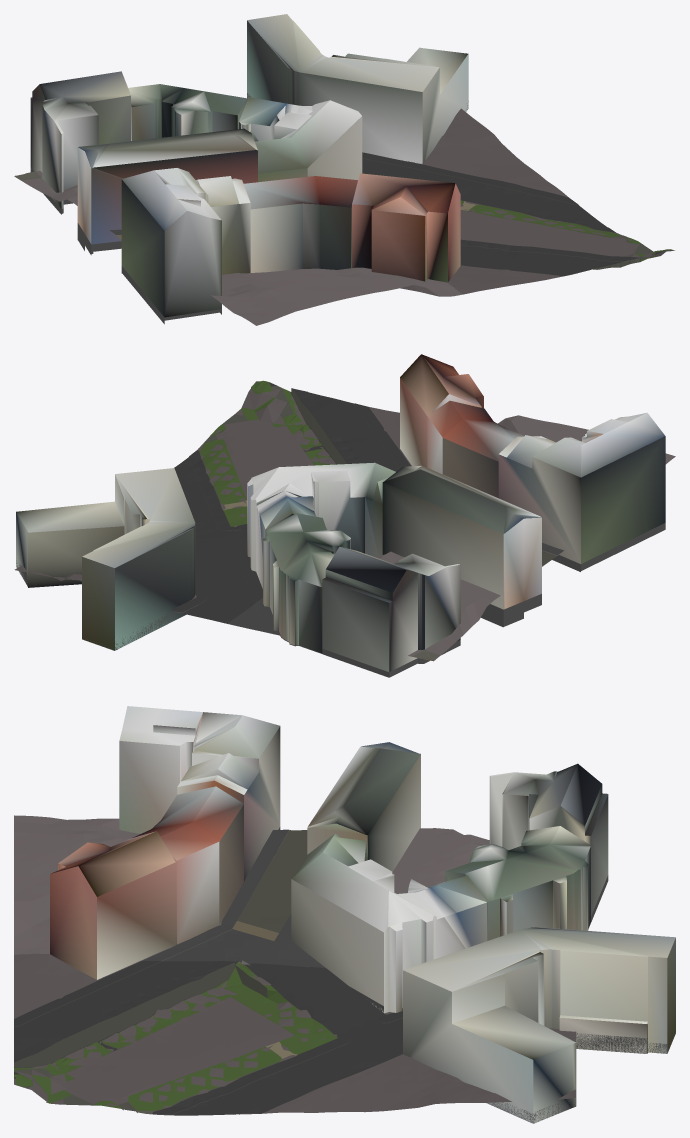
3 views of the same model, one above another, from view 1: azimuth 30°, elevation 25°; view 2: azimuth 150°, elevation 25°; view 3: azimuth 270°, elevation 25° (orthographic). The views are drawn at different scales.
Visible parts, largest first — view 1: c_m11_m04, append:c_m11_m04; view 2: c_m11_m04, append:c_m11_m04; view 3: c_m11_m04, append:c_m11_m04.
Part boxes in pixels (left/top/right/bottom): c_m11_m04: left=30, top=14, right=674, bottom=324; append:c_m11_m04: left=14, top=170, right=462, bottom=325; c_m11_m04: left=14, top=354, right=665, bottom=677; append:c_m11_m04: left=227, top=415, right=675, bottom=661; c_m11_m04: left=14, top=706, right=675, bottom=1123; append:c_m11_m04: left=14, top=815, right=489, bottom=968.
Size of the model in its own units: 145 by 40.31 by 151.
